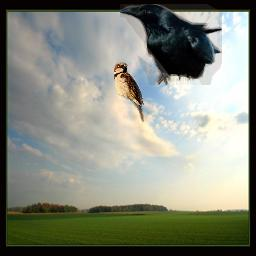Crow: (120, 4, 222, 85)
Swallow: (113, 62, 144, 122)
